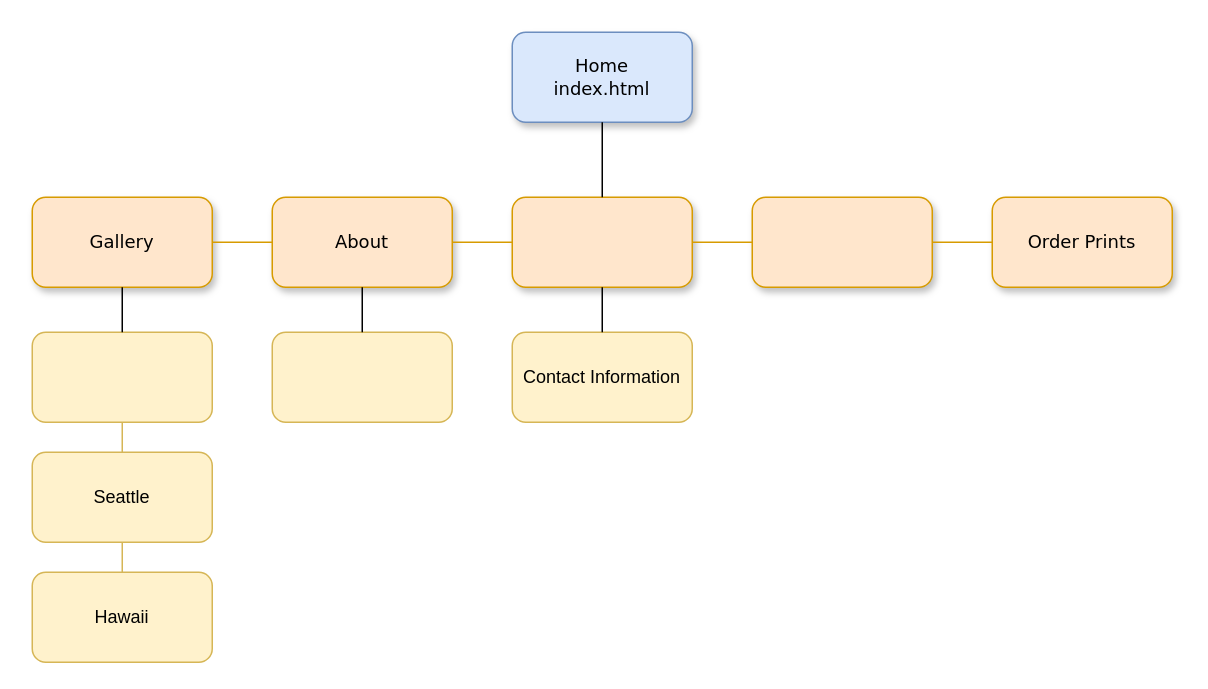
This 1208x689 diagram has some shape labels left out. The shapes that lost their labels are listed below. From the top down, each one's centre as x and y in pixels, then its label:
[603,244]: Contact
[843,244]: Blog
[121,376]: Cancun
[361,376]: About Martin
